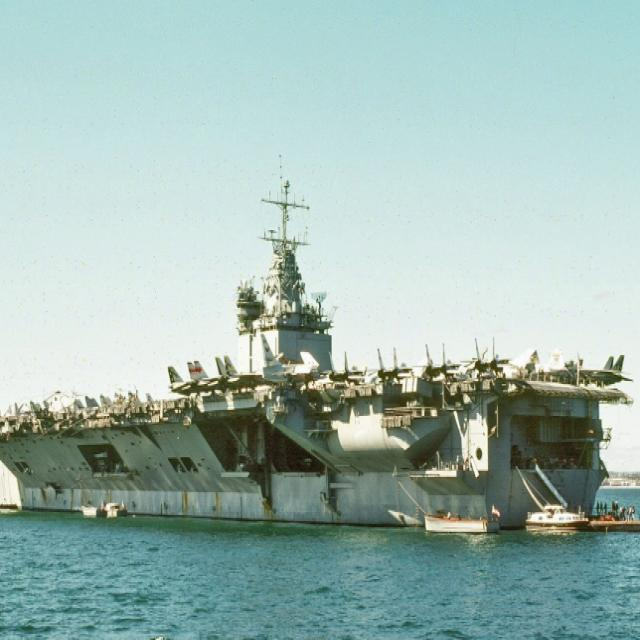Portanaves: (1, 144, 619, 536)
